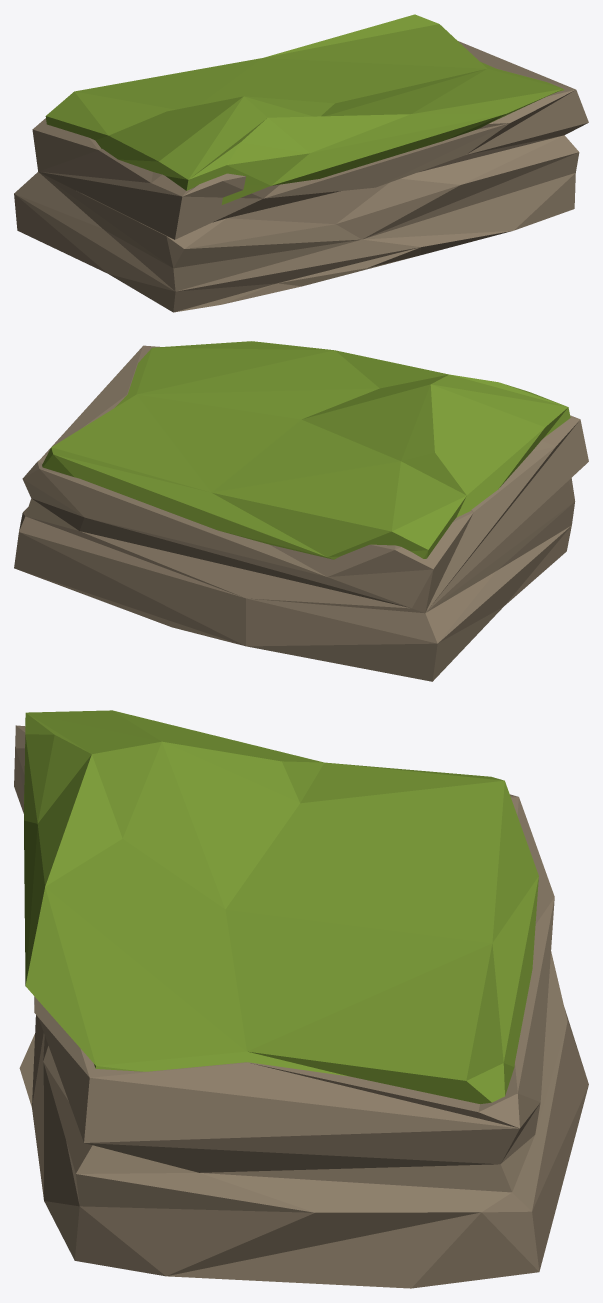
Rendered from Stone_6_moss_brown_pal.fbx.
3 renders of one model, top to bottom at view 1: azimuth 30°, elevation 25°; view 2: azimuth 150°, elevation 25°; view 3: azimuth 270°, elevation 25°, orthographic. The views are drawn at different scales.
Visible parts, largest first — view 1: Stone_6_moss_brown_pal; view 2: Stone_6_moss_brown_pal; view 3: Stone_6_moss_brown_pal.
Part boxes in pixels (bbox=[...]): Stone_6_moss_brown_pal: bbox=[14, 14, 588, 312]; Stone_6_moss_brown_pal: bbox=[14, 341, 588, 681]; Stone_6_moss_brown_pal: bbox=[14, 710, 588, 1288].
Size of the model in its own units: 243 by 100 by 167.
